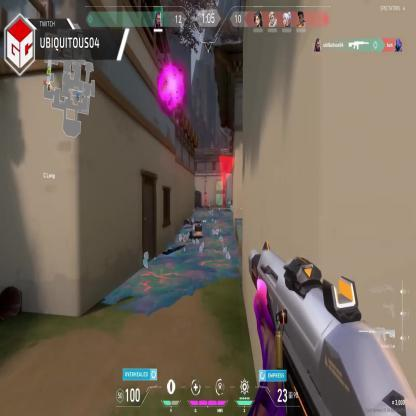enemy: (222, 192, 226, 208), (204, 192, 207, 208)
enemy_head: (204, 192, 206, 196), (223, 192, 224, 196)
